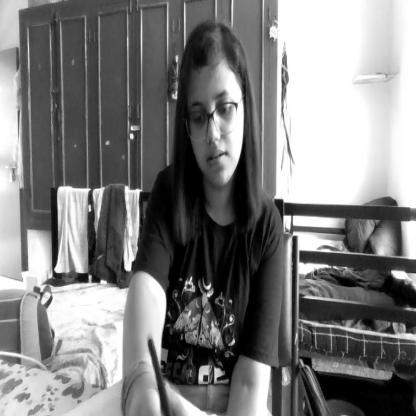Distracted: (178, 26, 247, 195)
